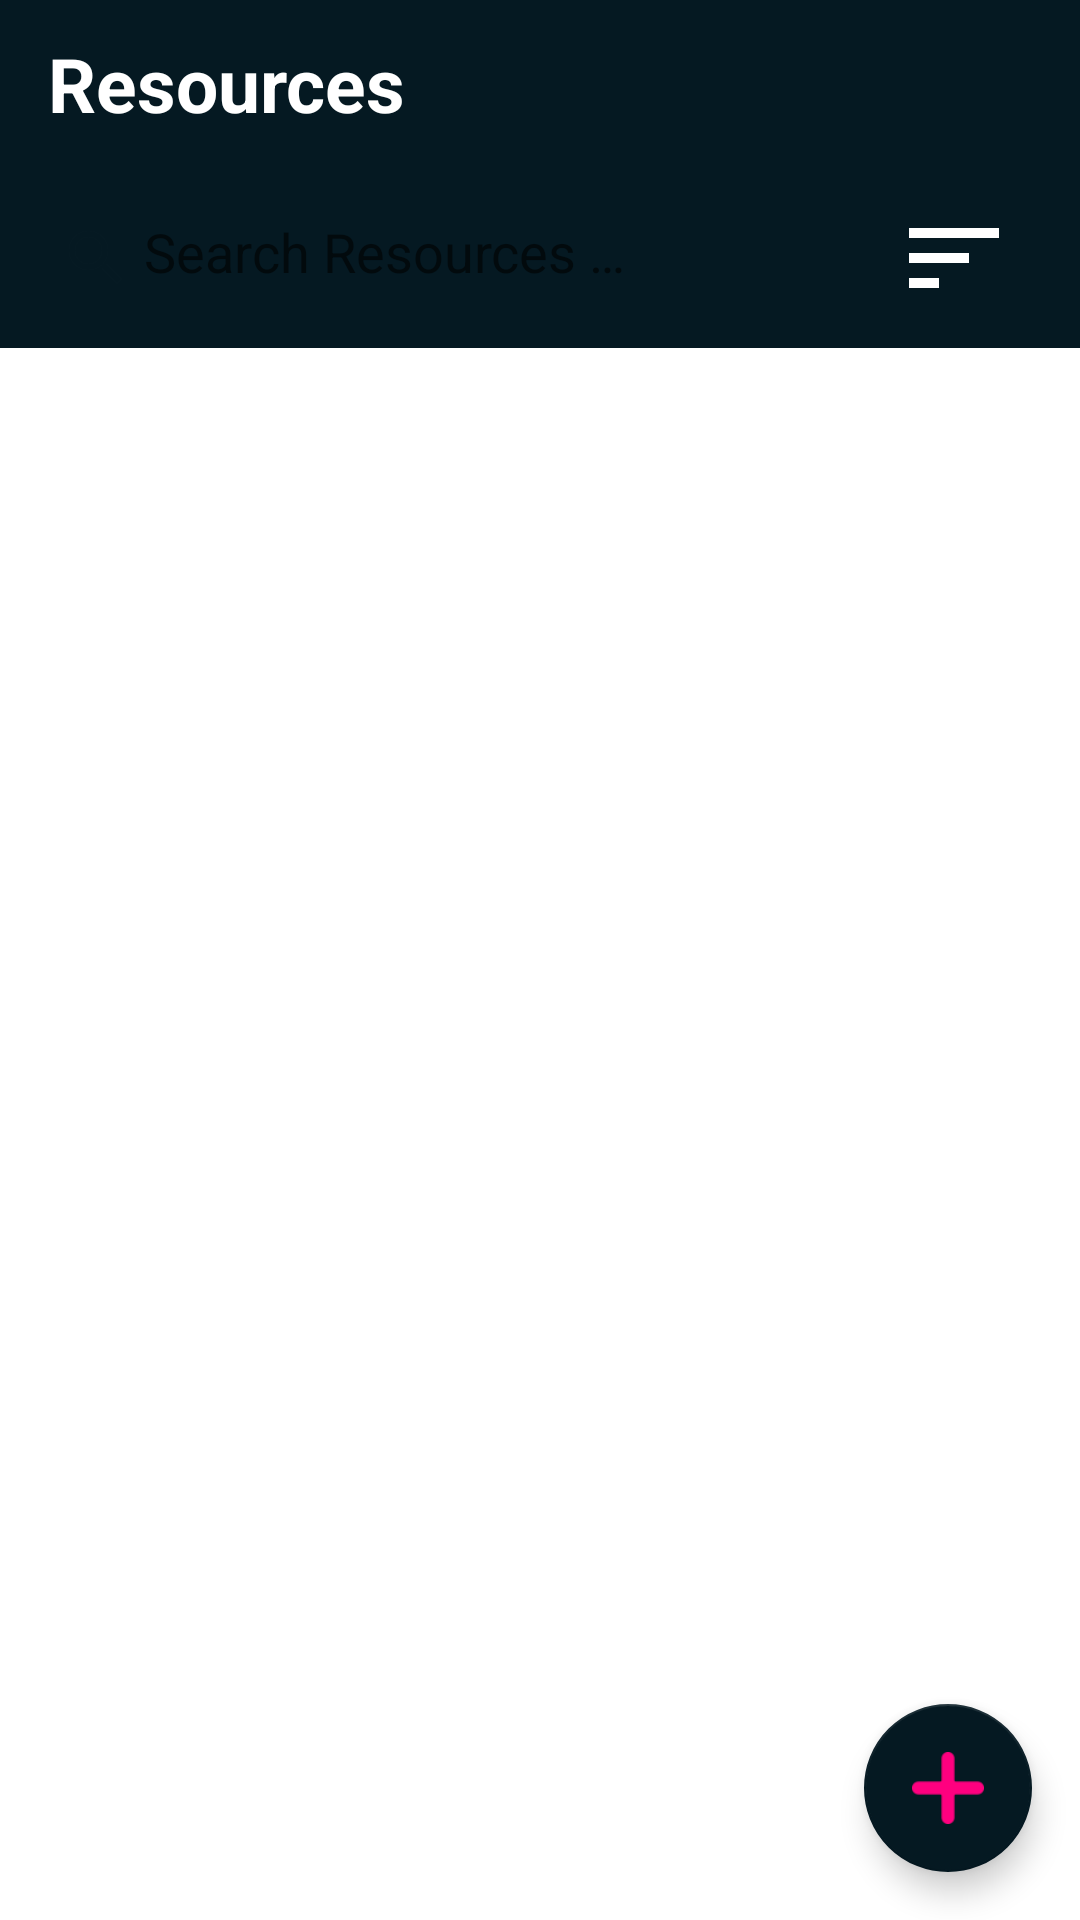

Icons on this 1080x1920 Android screen, each with its box as (x1, y1, x2, y2):
add: (864, 1704, 1032, 1872)
sort: (909, 228, 999, 288)
